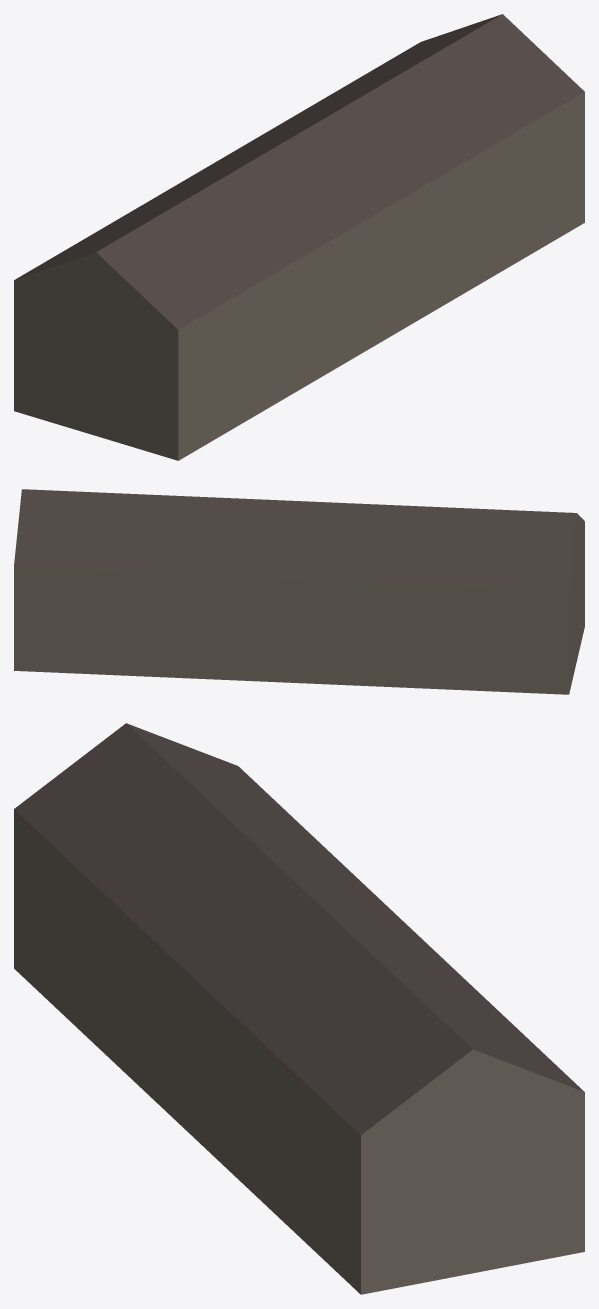
3 renders of one model, top to bottom at view 1: azimuth 30°, elevation 25°; view 2: azimuth 150°, elevation 25°; view 3: azimuth 270°, elevation 25°, orthographic. The views are drawn at different scales.
Visible parts, largest first — view 1: HP-w859457523; view 2: HP-w859457523; view 3: HP-w859457523.
Boxes of the visible parts, x1,y1,x2,y2 form: HP-w859457523: [14, 14, 584, 460]; HP-w859457523: [14, 489, 584, 694]; HP-w859457523: [14, 723, 584, 1294].
Bounding box in the file's own units: 29.8 × 8.42 × 19.47.
